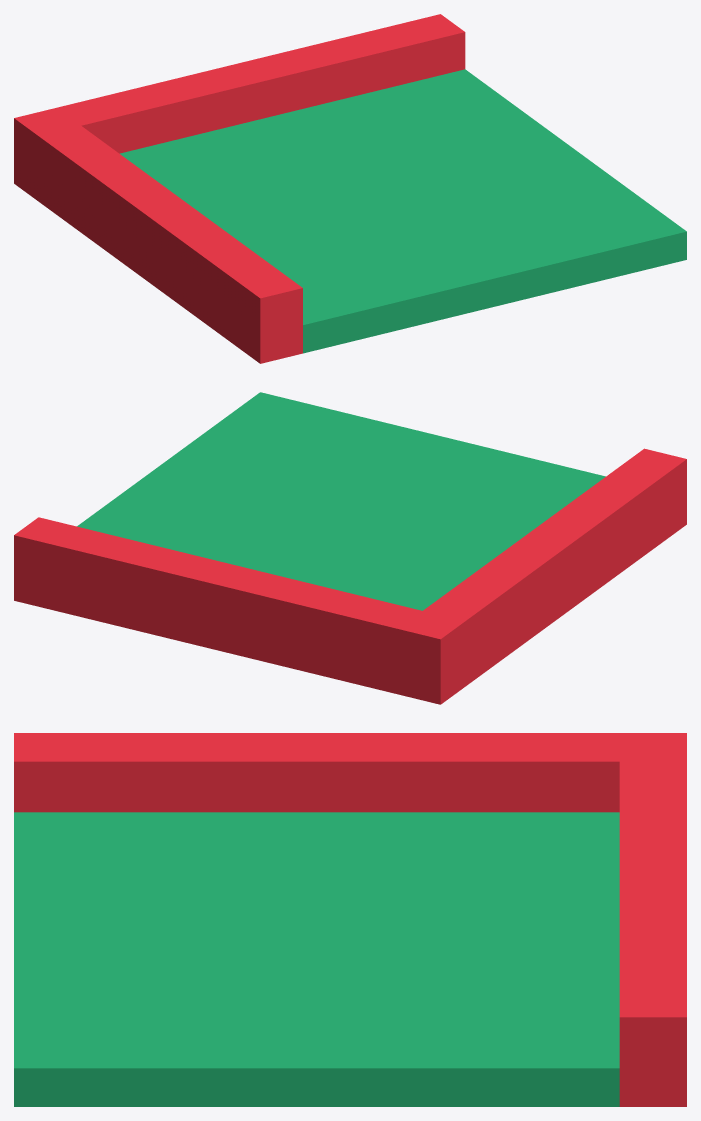
Rendered from corner.dae.
3 views of the same model, one above another, from view 1: azimuth 30°, elevation 25°; view 2: azimuth 150°, elevation 25°; view 3: azimuth 270°, elevation 25° (orthographic). The views are drawn at different scales.
Parts seen in each view (by area): view 1: corner; view 2: corner; view 3: corner.
Boxes of the visible parts, box(x1,y1,x2,y2) form: corner: box(14, 14, 686, 363); corner: box(14, 392, 686, 704); corner: box(14, 733, 686, 1106).
Bounding box in the file's own units: 0.9999 × 0.1467 × 0.9999.
